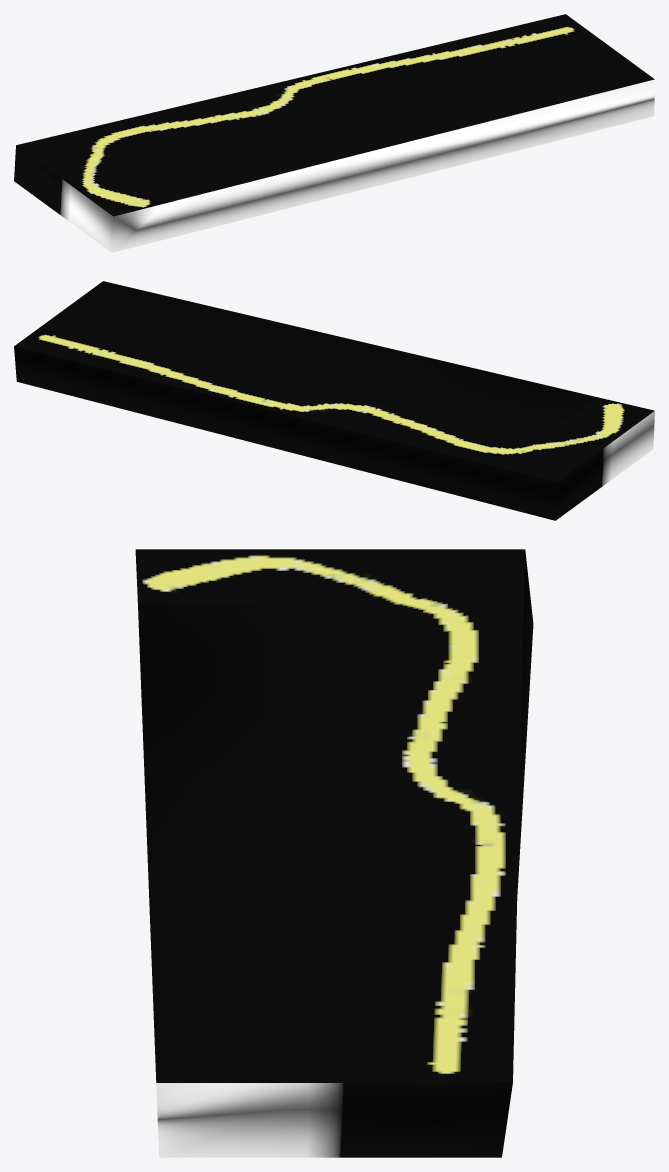
The model's file is CharSkyKid_Prop_MoonlightMural_Line01.glb.
The picture shows the model from 3 angles, top to bottom: view 1: azimuth 30°, elevation 25°; view 2: azimuth 150°, elevation 25°; view 3: azimuth 270°, elevation 25°; orthographic projection. The views are drawn at different scales.
Visible parts, largest first — view 1: CharSkyKid_Prop_MoonlightMural_Line01; view 2: CharSkyKid_Prop_MoonlightMural_Line01; view 3: CharSkyKid_Prop_MoonlightMural_Line01.
Part boxes in pixels (x1,y1,x2,y2): CharSkyKid_Prop_MoonlightMural_Line01: (14, 14, 654, 252); CharSkyKid_Prop_MoonlightMural_Line01: (14, 281, 654, 520); CharSkyKid_Prop_MoonlightMural_Line01: (135, 549, 533, 1157).
Size of the model in its own units: 1 by 0.0654 by 0.3152.
1 material, 1 textured.
